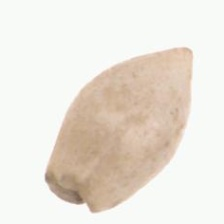L1: (43, 175, 107, 214), (164, 44, 195, 76)
L2: (44, 46, 193, 213)
